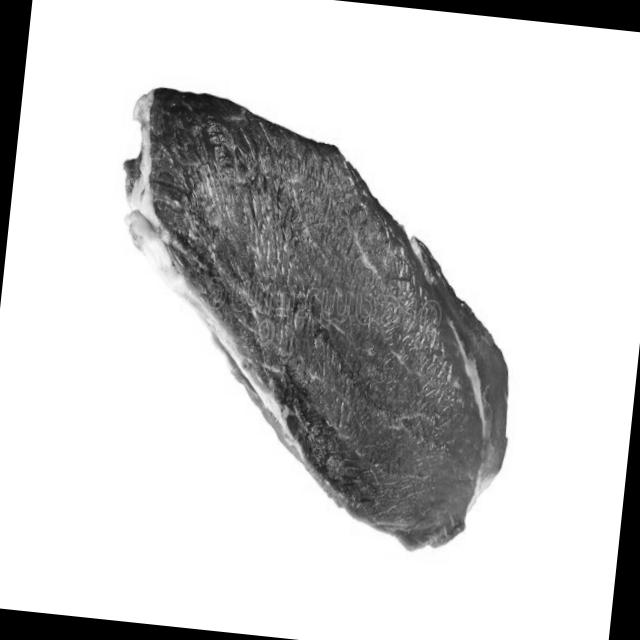thit than: (89, 85, 541, 556)
